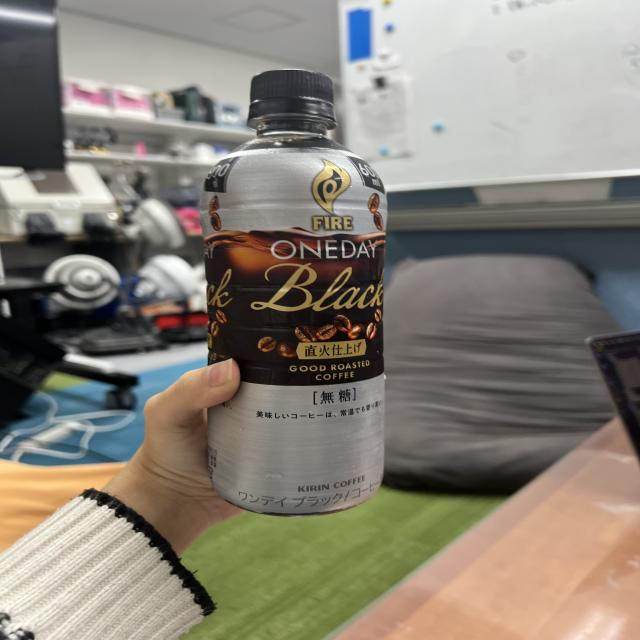coffee-black: (206, 68, 387, 513)
